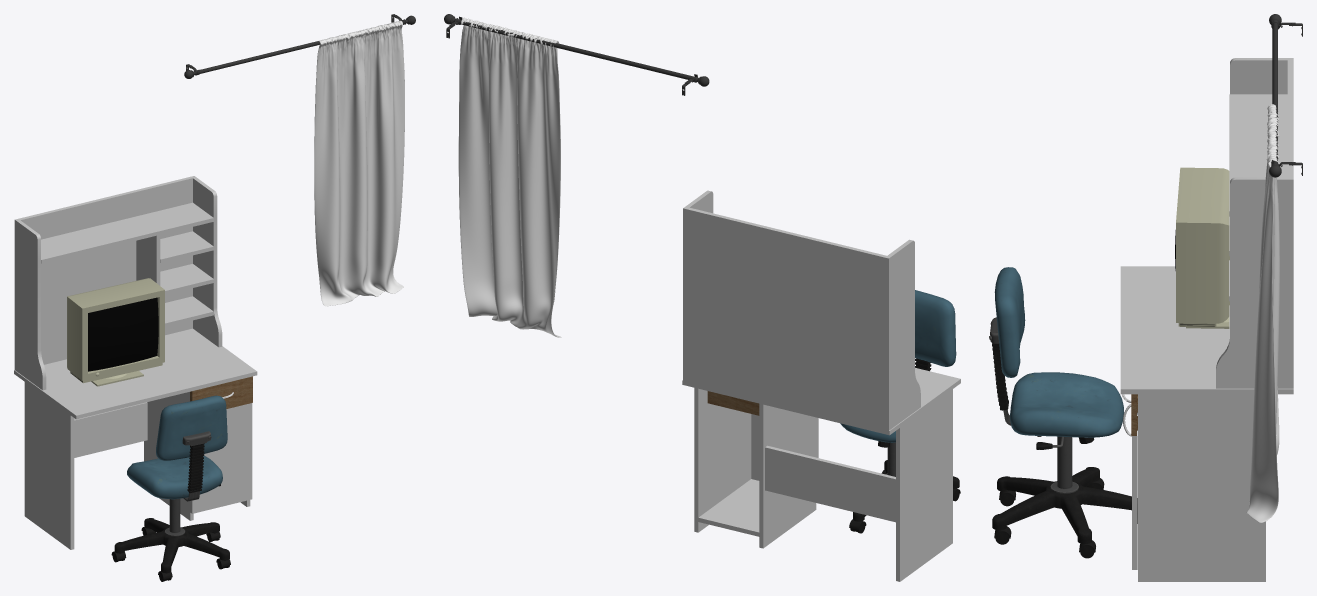
The model's file is room.fbx.
3 views of the same model, side by side, from view 1: azimuth 30°, elevation 25°; view 2: azimuth 150°, elevation 25°; view 3: azimuth 270°, elevation 25° (orthographic). The views are drawn at different scales.
Visible parts, largest first — view 1: Masa, Semi-Sheer Rod Pocket Curtains - Right.001, chair01, Cube, Kapak, Cekmece, Steel Curtain Rod; view 2: Masa, Semi-Sheer Rod Pocket Curtains - Right.001, chair01, Steel Curtain Rod, Kapak, Cekmece; view 3: Masa, chair01, Cube, Semi-Sheer Rod Pocket Curtains - Right.001, Steel Curtain Rod, Kapak.
Boxes of the visible parts, bbox=[...] form: Masa: bbox=[14, 176, 257, 549]; Semi-Sheer Rod Pocket Curtains - Right.001: bbox=[314, 20, 404, 306]; chair01: bbox=[111, 395, 230, 581]; Cube: bbox=[67, 278, 164, 386]; Kapak: bbox=[190, 403, 252, 513]; Cekmece: bbox=[190, 376, 252, 408]; Steel Curtain Rod: bbox=[184, 14, 415, 78]; Masa: bbox=[682, 190, 960, 581]; Semi-Sheer Rod Pocket Curtains - Right.001: bbox=[458, 17, 561, 337]; chair01: bbox=[840, 290, 960, 533]; Steel Curtain Rod: bbox=[444, 14, 709, 95]; Kapak: bbox=[751, 414, 818, 480]; Cekmece: bbox=[707, 391, 759, 415]; Masa: bbox=[1120, 58, 1293, 581]; chair01: bbox=[989, 267, 1137, 558]; Cube: bbox=[1175, 167, 1229, 328]; Semi-Sheer Rod Pocket Curtains - Right.001: bbox=[1246, 104, 1279, 522]; Steel Curtain Rod: bbox=[1269, 14, 1302, 177]; Kapak: bbox=[1132, 430, 1137, 569].
Size of the model in its own units: 477 by 474 by 237.
